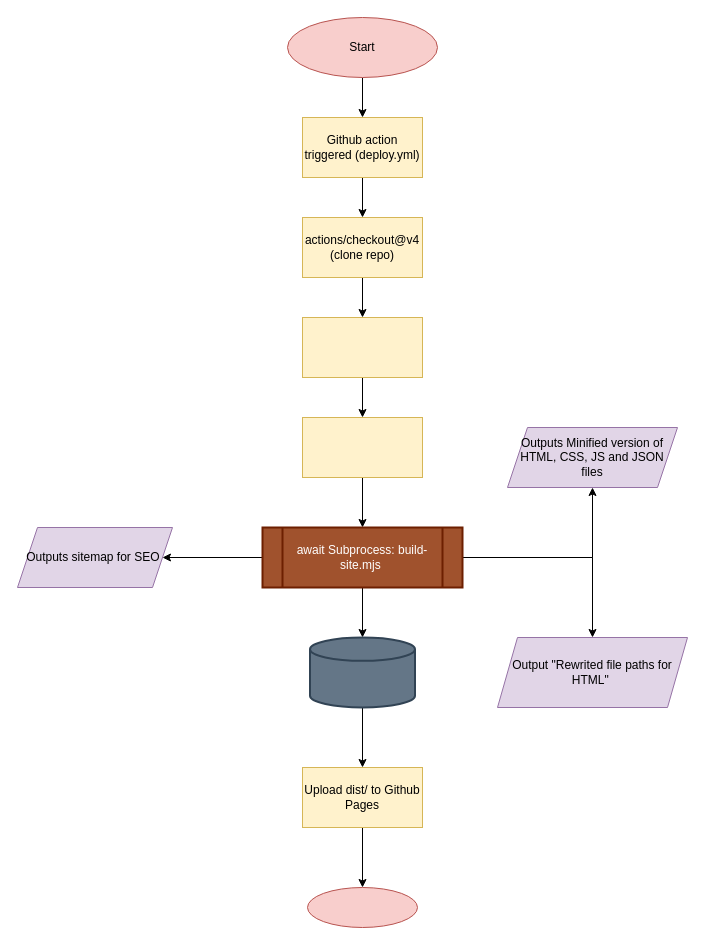
Some shapes in this 705 by 945 pixel diagram are drawn without their labels. The centre of each missing label's shape, as x and y in pixels:
"Generate dist/ (optimised production site)" goes at (x=362, y=672).
"Install dependencies (package.json)" goes at (x=362, y=447).
"setup node.js (v20)" goes at (x=362, y=347).
"Website is live" goes at (x=362, y=907).
